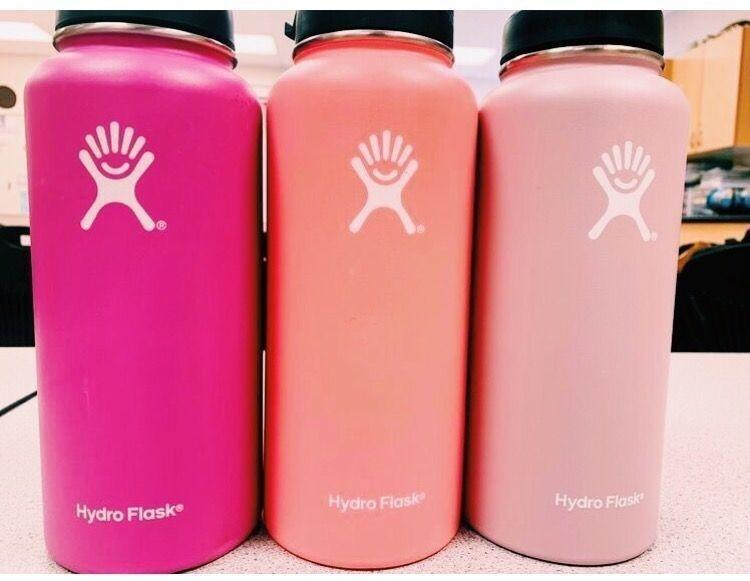gym bottle: (23, 1, 264, 578), (469, 2, 689, 567), (261, 3, 479, 570)
